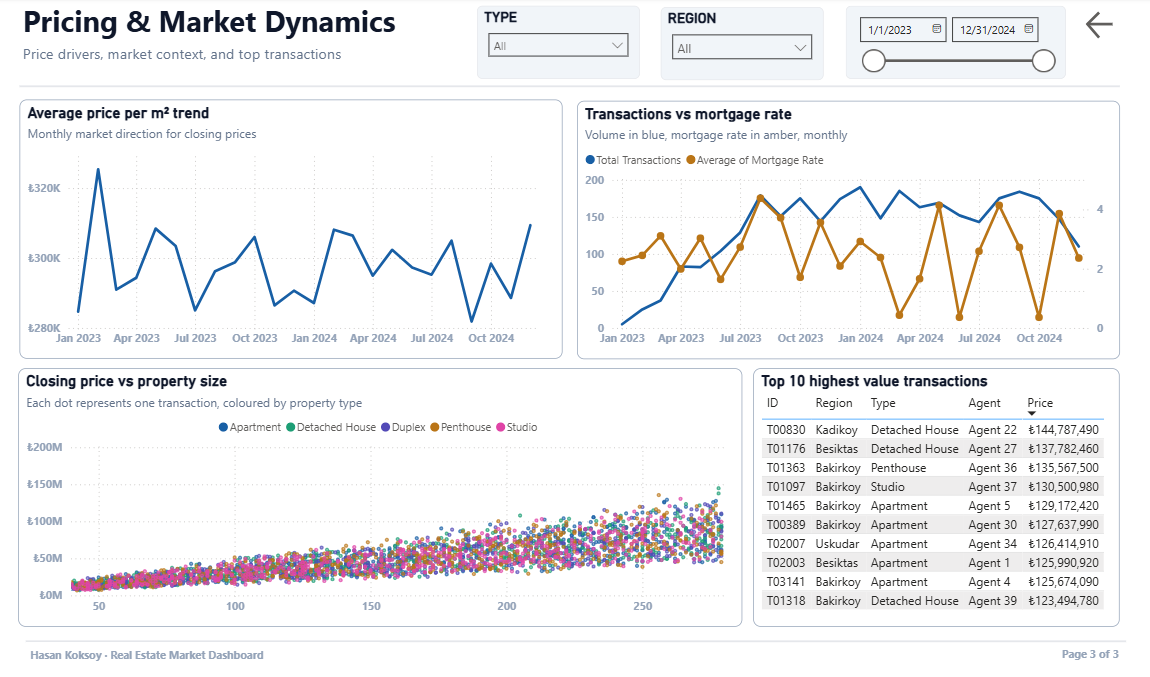

Layout of this report page (visuals, bound fields, positions):
{"tool":"powerbi","page":{"name":"Pricing & Market Dynamics","canvas":[1280,760],"ordinal":2},"visuals":[{"type":"textbox","box":[23.3,0,565.4,70],"z":0},{"type":"textbox","box":[23.3,45.3,1257,37],"z":1},{"type":"scatterChart","title":"Closing price vs property size","fields":{"X":["Sum(property_attributes.size_m2)"],"Y":["Sum(transactions.closing_price)"],"Series":["property_attributes.property_type"],"Category":["transactions.transaction_id"]},"box":[23.3,410.3,800,285.4],"z":2},{"type":"lineChart","title":"Average price per m² trend","fields":{"Category":["calendar.year_month"],"Y":["transactions.Avg Price per m2"]},"box":[24.7,113.9,599.7,286.8],"z":3},{"type":"lineChart","title":"Transactions vs mortgage rate","fields":{"Y":["transactions.Total Transactions"],"Category":["calendar.year_month"],"Y2":["Avg(calendar.mortgage_rate)"]},"box":[640.8,115.3,599.7,285.4],"z":4},{"type":"tableEx","title":"Top 10 highest value transactions","fields":{"Values":["transactions.transaction_id","regions.region_name","property_attributes.property_type","agents.agent_name","Sum(transactions.closing_price)"]},"box":[835.7,410.3,404.8,285.4],"z":5},{"type":"slicer","title":"TYPE","fields":{"Values":["property_attributes.property_type"]},"box":[529.7,9.6,179.8,81],"z":9},{"type":"slicer","title":"REGION","fields":{"Values":["regions.region_name"]},"box":[732.8,11,179.8,81],"z":10},{"type":"slicer","fields":{"Values":["calendar.date"]},"box":[937.2,9.6,242.9,81],"z":11},{"type":"shape","box":[24.7,82.3,1215.8,31.6],"z":12},{"type":"actionButton","box":[1199.3,11,41.2,39.8],"z":13},{"type":"shape","box":[31.6,695.7,1215.8,31.6],"z":14},{"type":"textbox","box":[948.2,710.8,299.1,27.4],"z":15},{"type":"textbox","box":[31.6,712.2,391.1,30.2],"z":16}]}

Visuals, with their boxes in screenshot pixels (x1, y1, x2, y2), scaled from the page's 1280x760 canvas onto the 1150x677 screenshot:
textbox: select_region(21, 0, 529, 62)
textbox: select_region(21, 40, 1149, 73)
"Closing price vs property size" scatterChart: select_region(21, 365, 740, 620)
"Average price per m² trend" lineChart: select_region(22, 101, 561, 357)
"Transactions vs mortgage rate" lineChart: select_region(576, 103, 1115, 357)
"Top 10 highest value transactions" tableEx: select_region(751, 365, 1115, 620)
"TYPE" slicer: select_region(476, 9, 637, 81)
"REGION" slicer: select_region(658, 10, 820, 82)
slicer - calendar.date: select_region(842, 9, 1060, 81)
shape: select_region(22, 73, 1115, 101)
actionButton: select_region(1077, 10, 1115, 45)
shape: select_region(28, 620, 1121, 648)
textbox: select_region(852, 633, 1121, 658)
textbox: select_region(28, 634, 380, 661)
